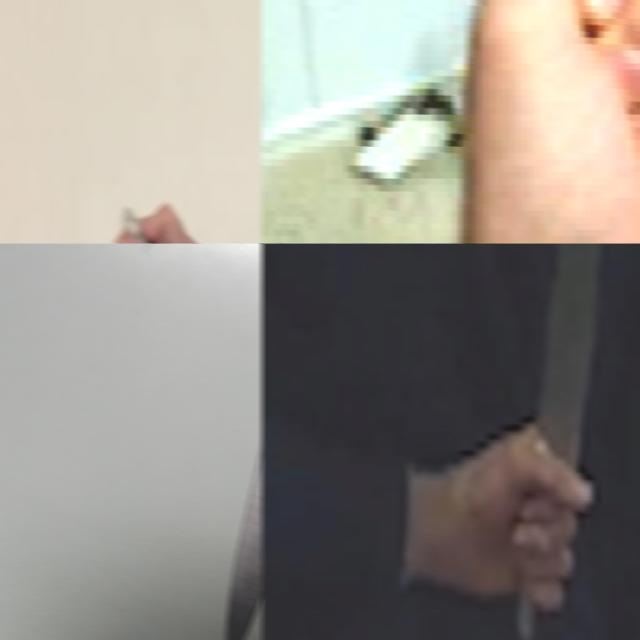Knife: (517, 243, 607, 464)
Knife_Handle: (261, 0, 640, 243), (463, 243, 608, 640), (112, 201, 247, 243)
